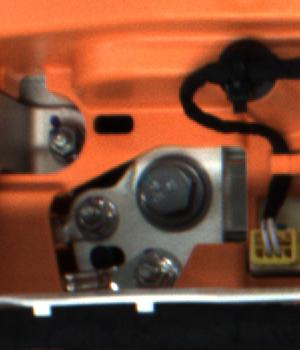nut_b: (132, 148, 217, 237)
